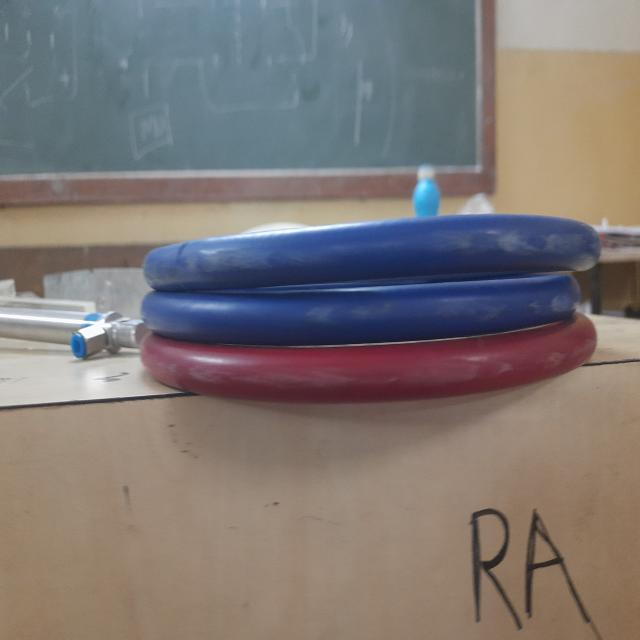daire: (148, 336, 586, 401), (154, 219, 588, 277), (148, 289, 590, 331)
